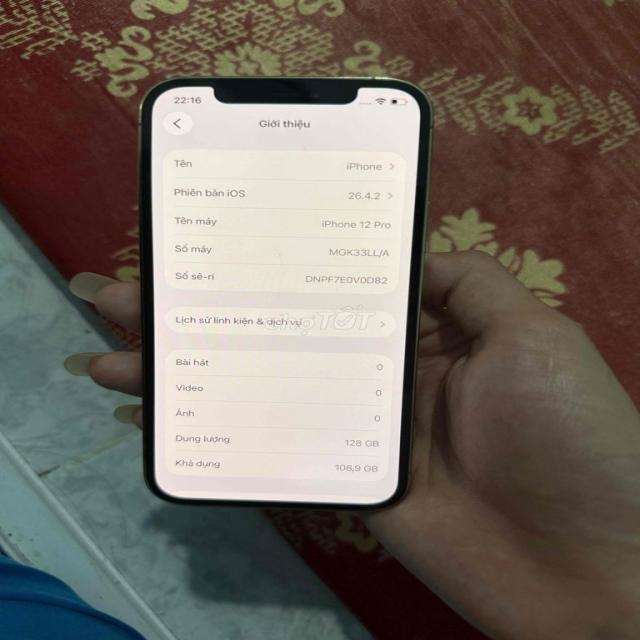gen_12_13: (140, 70, 431, 534)
